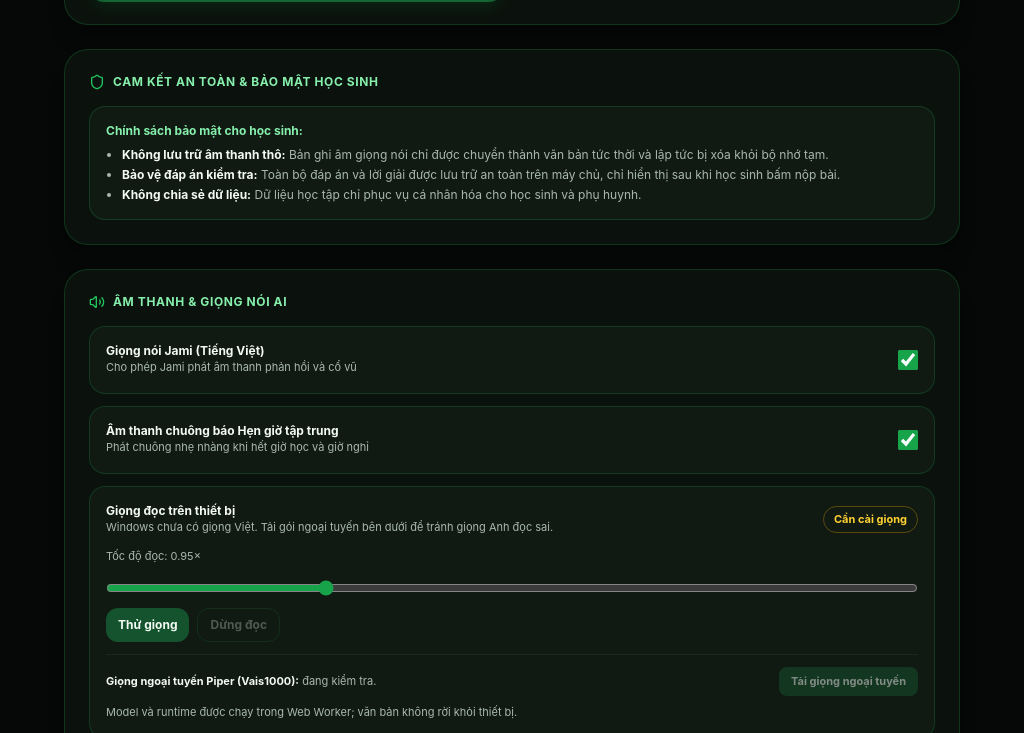
Test: SettingsPage Rollback & Error Handling › rolls back checkbox state when api update fails
The image size is (1024, 733).
(page scrolled)
# Toggle off
Step 1. Click the checkbox labelled "Giọng nói Jami" → point(908, 360), box [898,350,918,370]
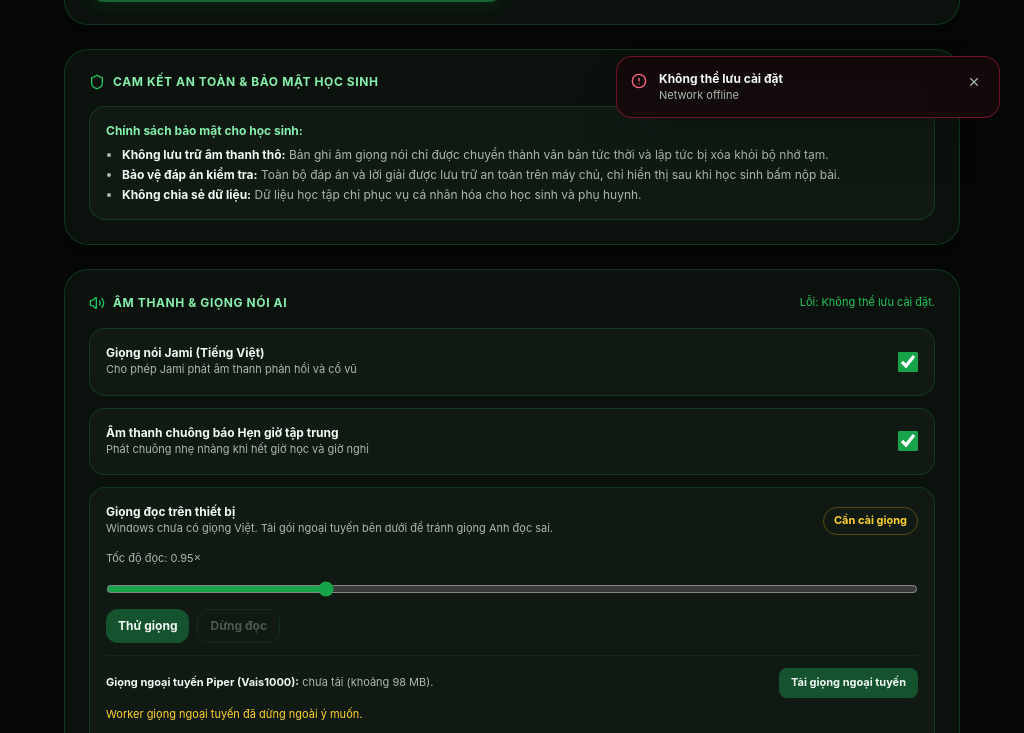
expect the text "Lỗi: Không thể lưu cài đặt." is shown: met, box [800,295,935,309]
